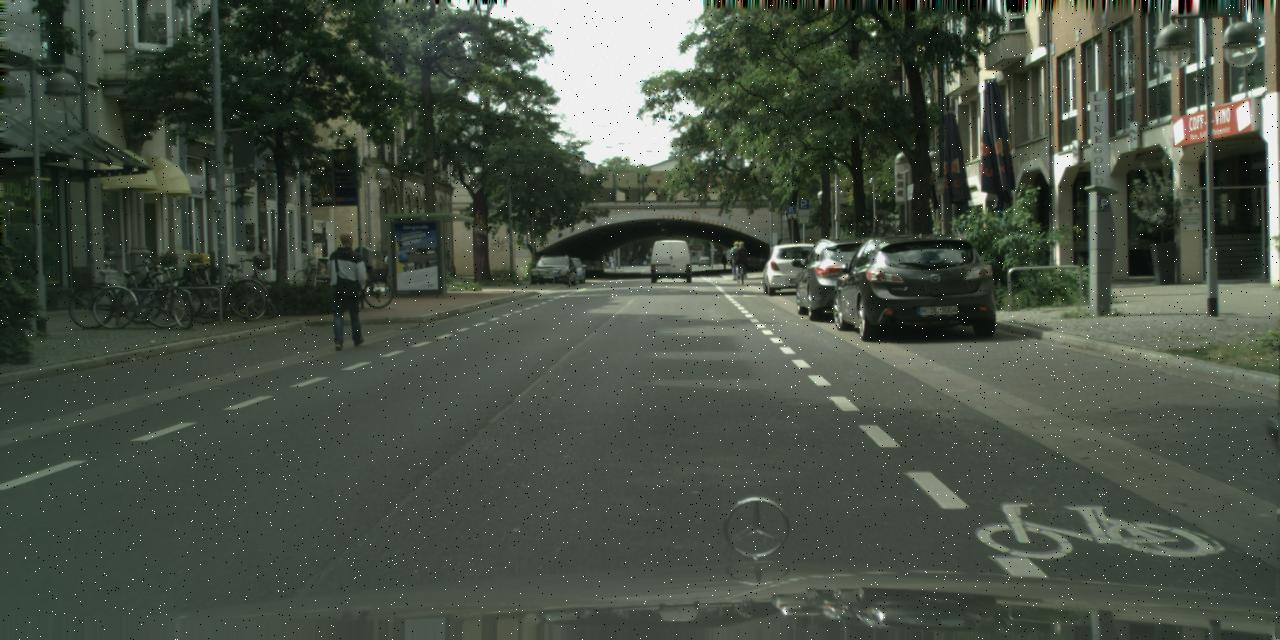ped: (324, 232, 371, 346), (728, 240, 744, 279), (733, 241, 748, 278), (721, 254, 727, 270), (728, 258, 734, 271)
